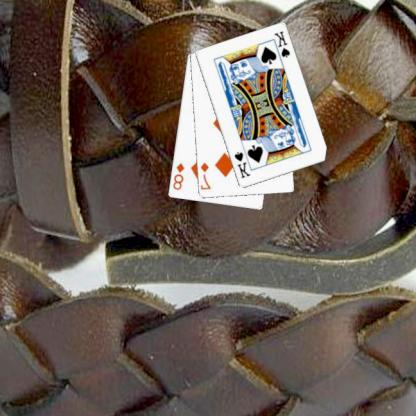7D: (200, 160, 214, 191)
8D: (172, 160, 188, 191)
KS: (272, 28, 294, 64), (233, 149, 254, 180)
